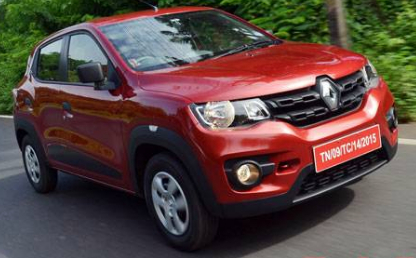car: (10, 3, 399, 256)
